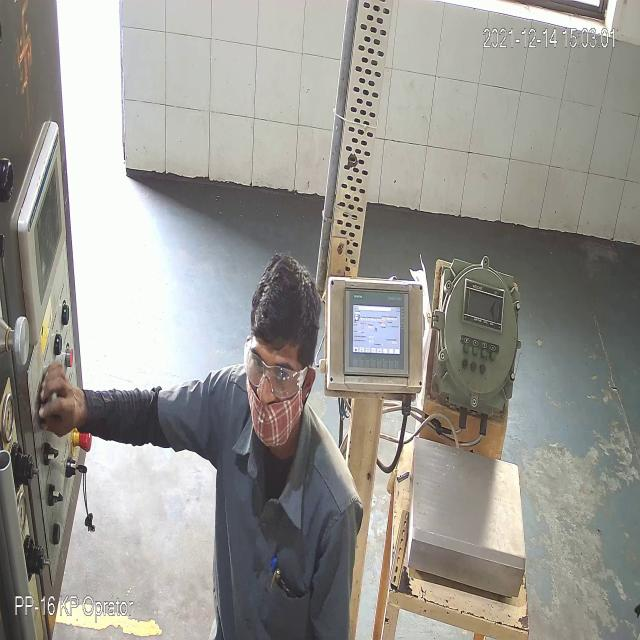glasses: (242, 350, 314, 398)
